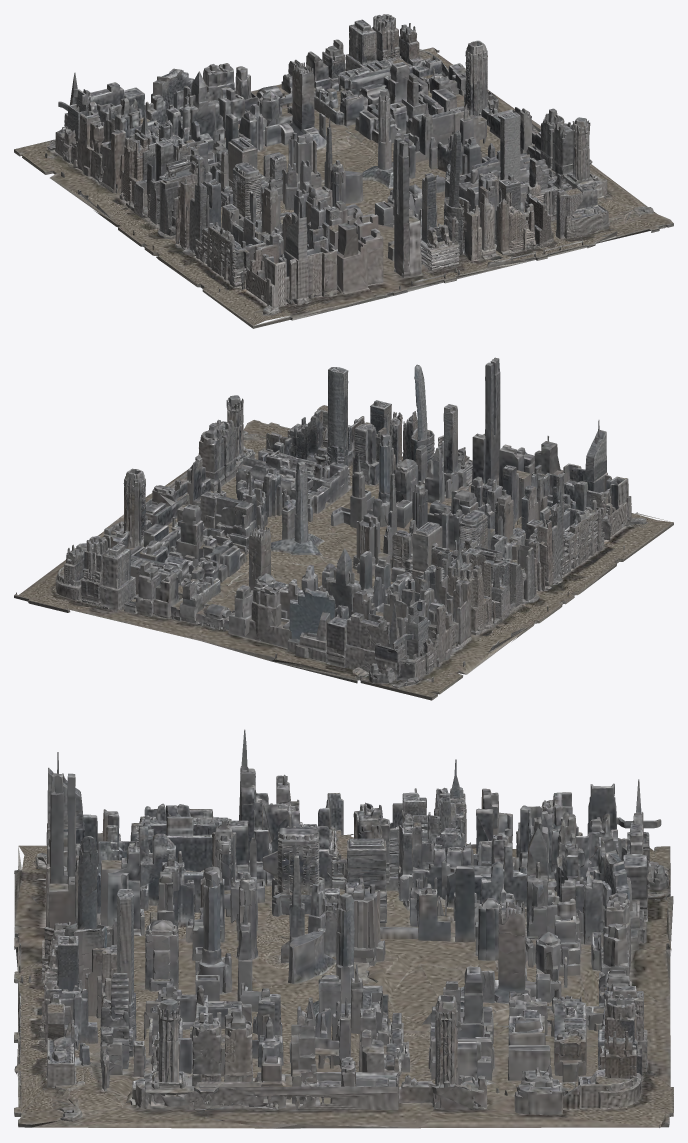
The model's file is ny_hudson.glb.
The picture shows the model from 3 angles, top to bottom: view 1: azimuth 30°, elevation 25°; view 2: azimuth 150°, elevation 25°; view 3: azimuth 270°, elevation 25°; orthographic projection. The views are drawn at different scales.
Visible parts, largest first — view 1: Mesh_0; view 2: Mesh_0; view 3: Mesh_0.
Part boxes in pixels (box(x1,y1,x2,y2)): Mesh_0: box(14, 14, 673, 328); Mesh_0: box(14, 357, 673, 700); Mesh_0: box(14, 729, 673, 1128).
Size of the model in its own units: 1.9 by 0.5869 by 1.9.
Materials: 1 (1 with a texture image).
